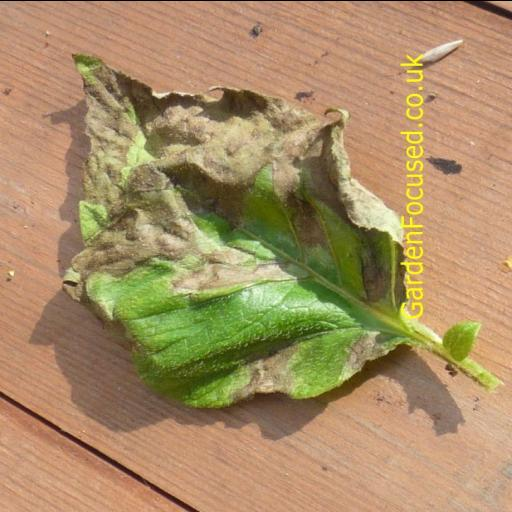disease_tomato: (58, 50, 422, 416)
